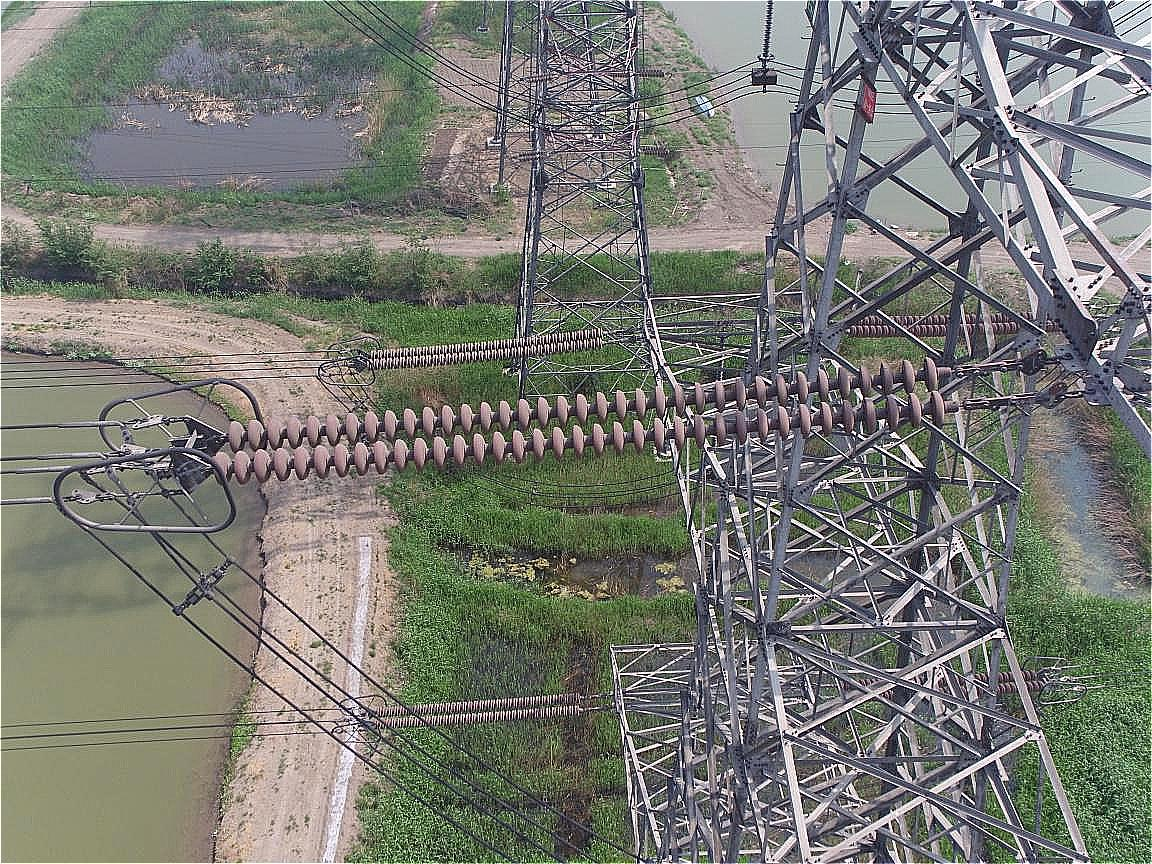insultor1: (198, 346, 969, 491)
insultor2: (364, 314, 625, 371), (355, 693, 601, 736)
